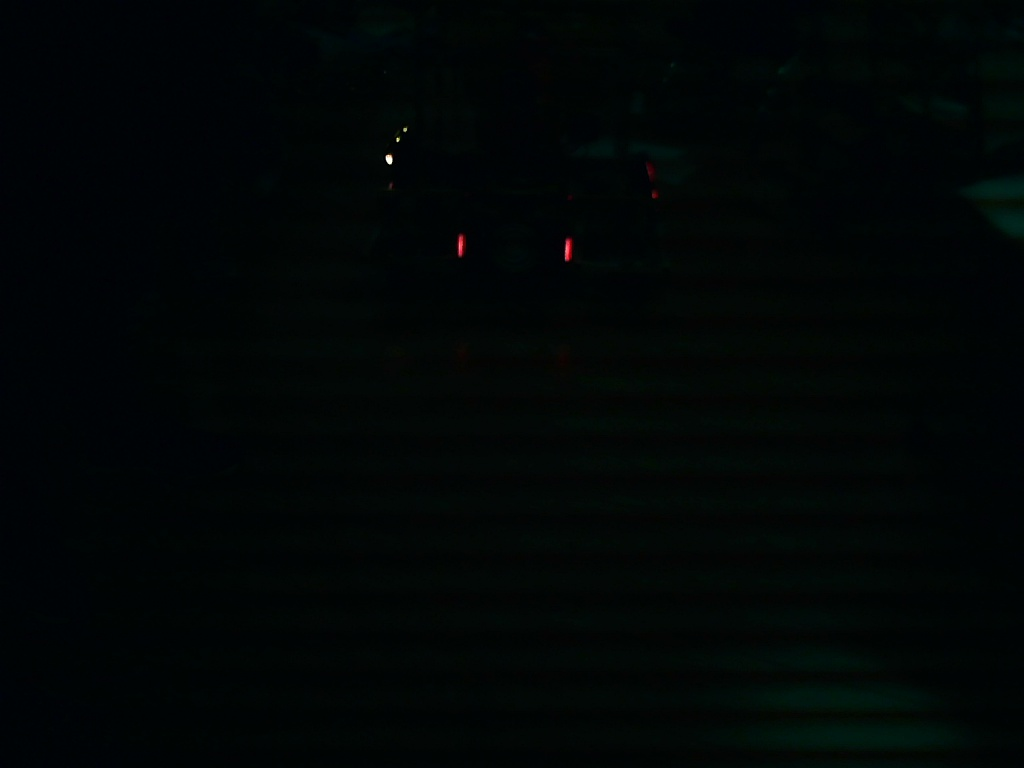lamp: (455, 229, 468, 262), (562, 234, 575, 264)
